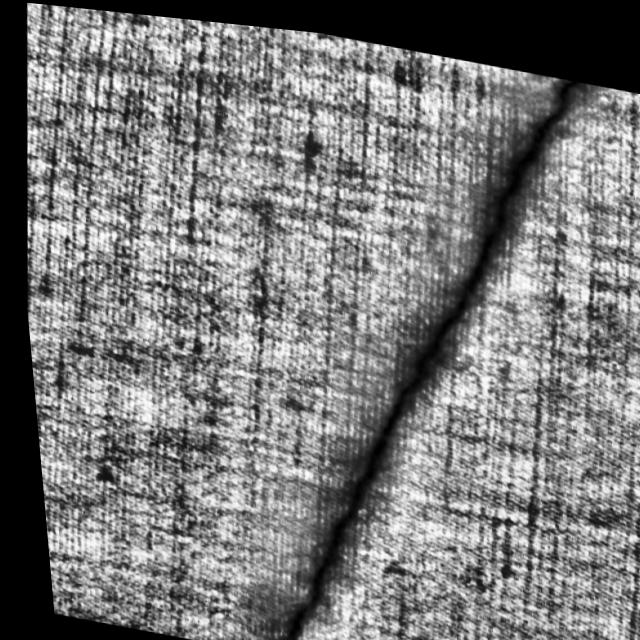Stitch: (205, 17, 634, 640)
